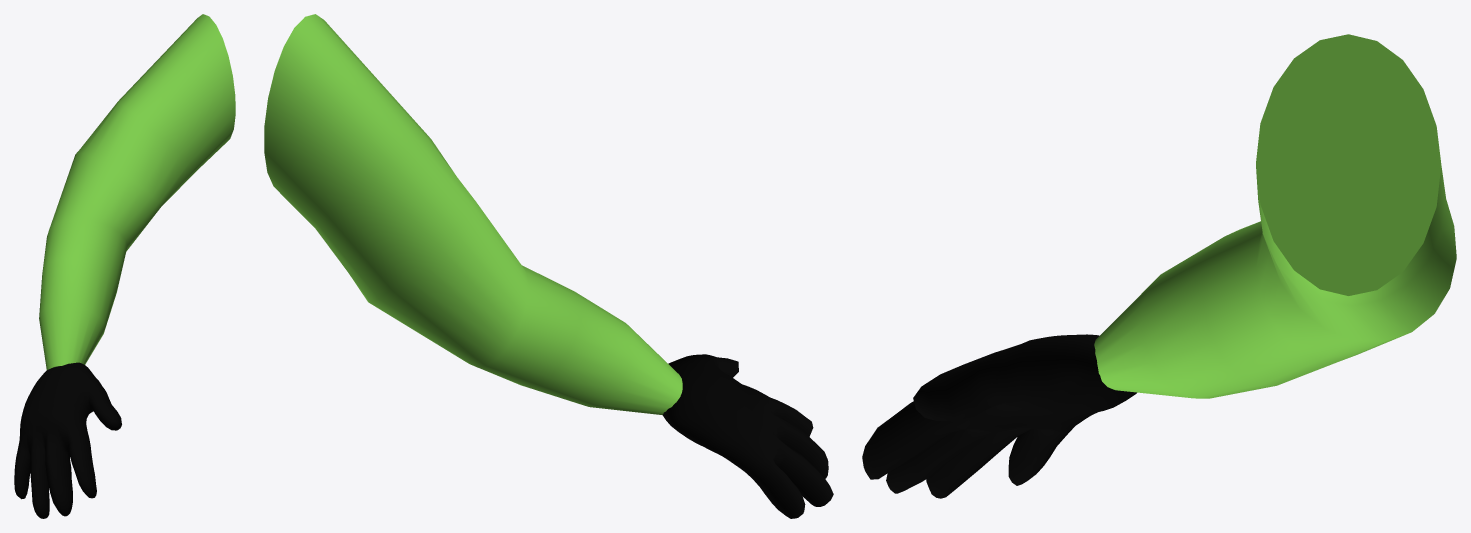
The model's file is FrijolitoBrazoDer.obj.
The picture shows the model from 3 angles, left to right: view 1: azimuth 30°, elevation 25°; view 2: azimuth 150°, elevation 25°; view 3: azimuth 270°, elevation 25°; orthographic projection. The views are drawn at different scales.
Parts seen in each view (by area): view 1: polySurface79; view 2: polySurface79; view 3: polySurface79.
Boxes of the visible parts, x1=… form: polySurface79: x1=14, y1=14, x2=235, y2=518; polySurface79: x1=264, y1=14, x2=833, y2=518; polySurface79: x1=862, y1=34, x2=1456, y2=498.
Bounding box in the file's own units: 1.71 × 2.07 × 1.54.
